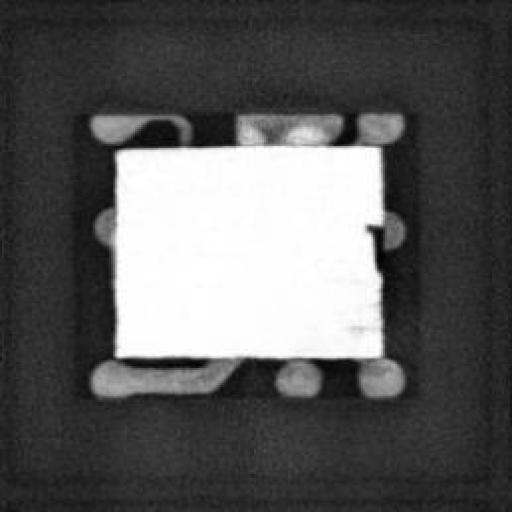DIE_BROKEN: (361, 218, 383, 273)
